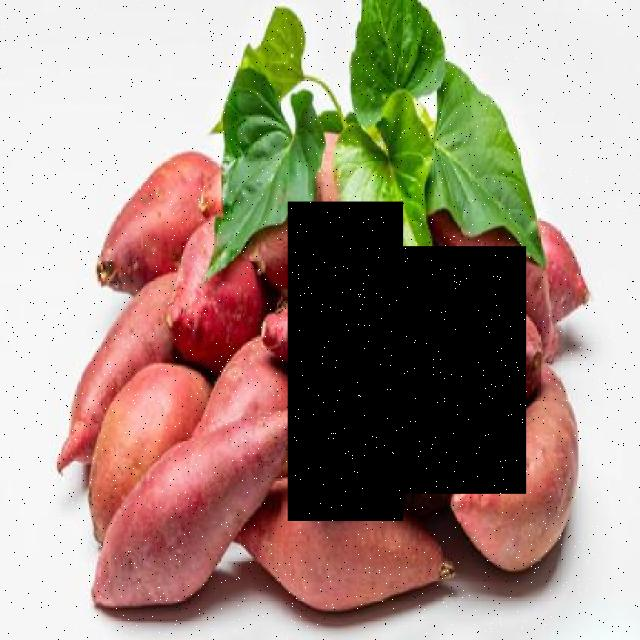Sweet_Potato: (288, 202, 403, 520), (384, 246, 527, 494)
